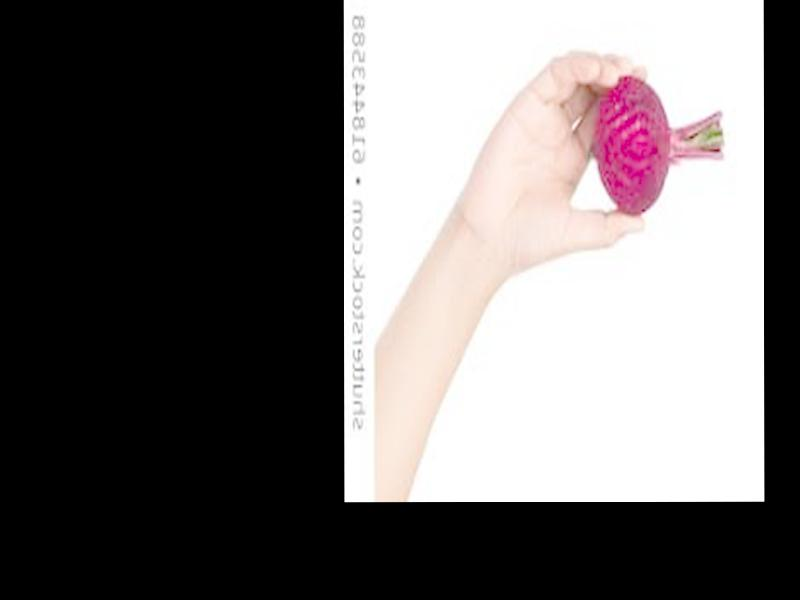Beet: (592, 72, 724, 214)
